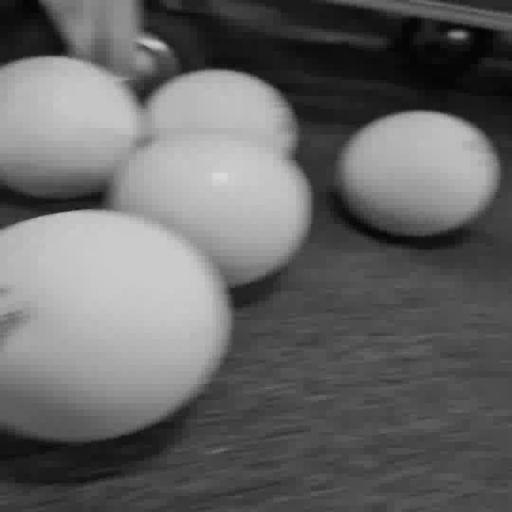fuel: (0, 210, 232, 442), (108, 136, 312, 287), (0, 56, 146, 199), (335, 111, 500, 237), (146, 69, 298, 157)
